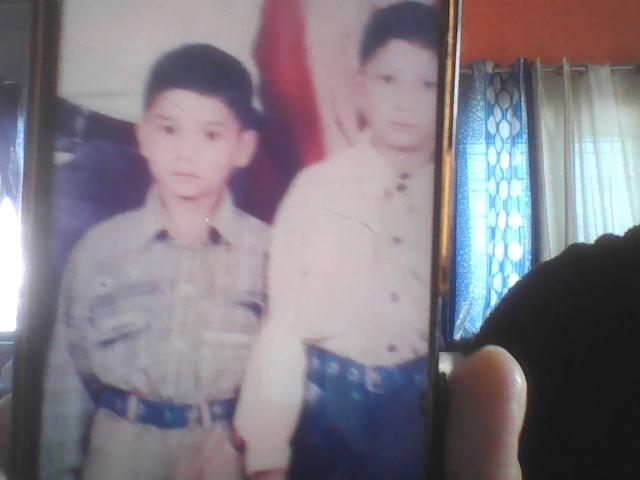fake: (136, 50, 257, 221)
